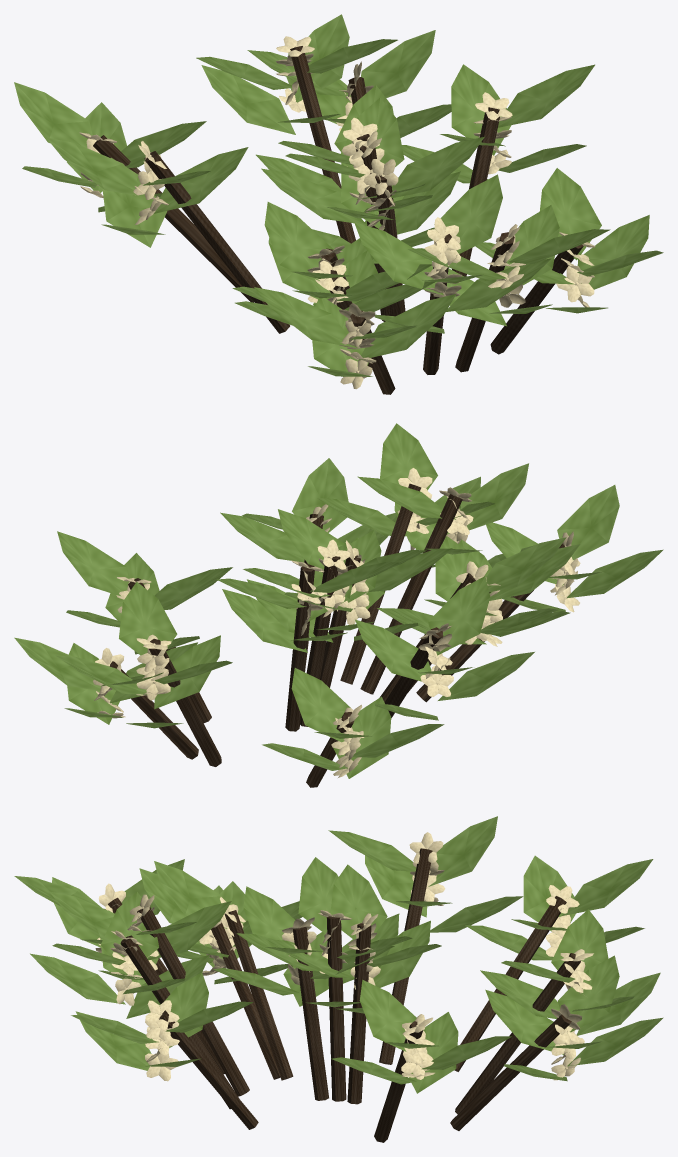
File: heather_dry.glb
3 views of the same model, one above another, from view 1: azimuth 30°, elevation 25°; view 2: azimuth 150°, elevation 25°; view 3: azimuth 270°, elevation 25° (orthographic). The views are drawn at different scales.
Visible parts, largest first — view 1: heather_dry; view 2: heather_dry; view 3: heather_dry.
Boxes of the visible parts, x1,y1,x2,y2 form: heather_dry: (14,14,663,394); heather_dry: (14,423,663,787); heather_dry: (14,816,663,1142).
Size of the model in its own units: 1.34 by 0.5429 by 1.65.
1 material, 1 textured.
